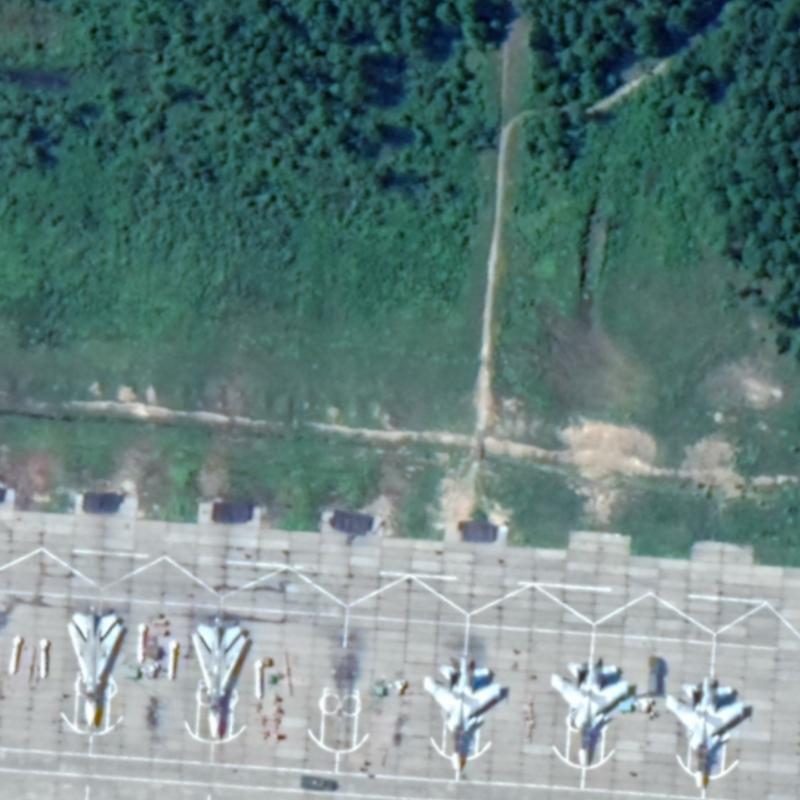A19: (421, 653, 505, 774), (663, 674, 746, 791), (548, 653, 631, 769)
A20: (187, 621, 249, 742), (64, 610, 124, 728)
